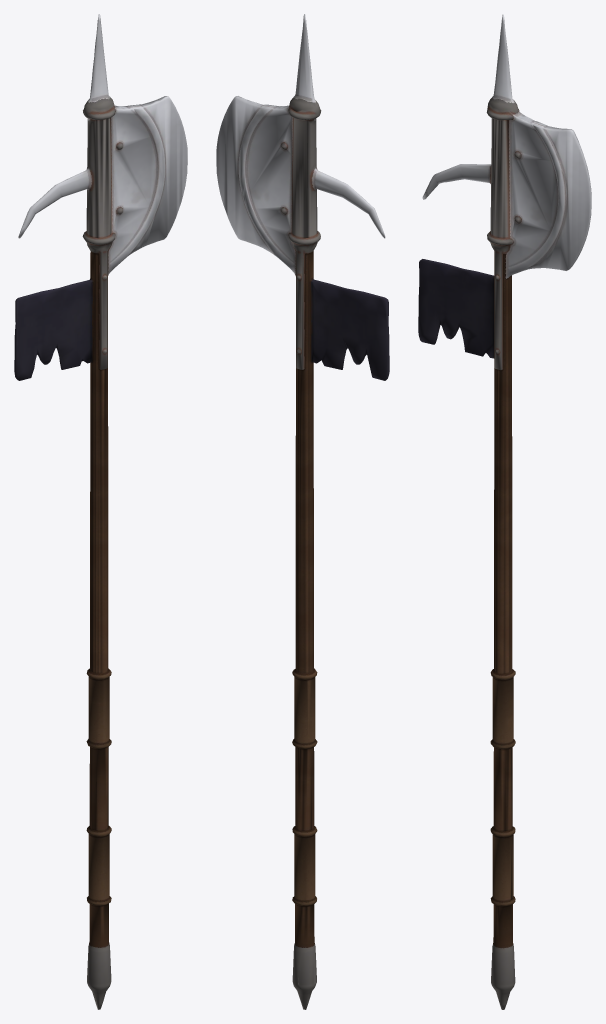
Rendered from weapon_halberd.glb.
The picture shows the model from 3 angles, left to right: view 1: azimuth 30°, elevation 25°; view 2: azimuth 150°, elevation 25°; view 3: azimuth 330°, elevation 25°; orthographic projection.
Visible parts, largest first — view 1: weapon_halberd; view 2: weapon_halberd; view 3: weapon_halberd.
Part boxes in pixels (x1,y1,x2,y2): weapon_halberd: [14, 14, 187, 1009]; weapon_halberd: [216, 14, 389, 1009]; weapon_halberd: [418, 14, 591, 1009].
Size of the model in its own units: 0.3908 by 2.15 by 0.0639.
1 material, 1 textured.
